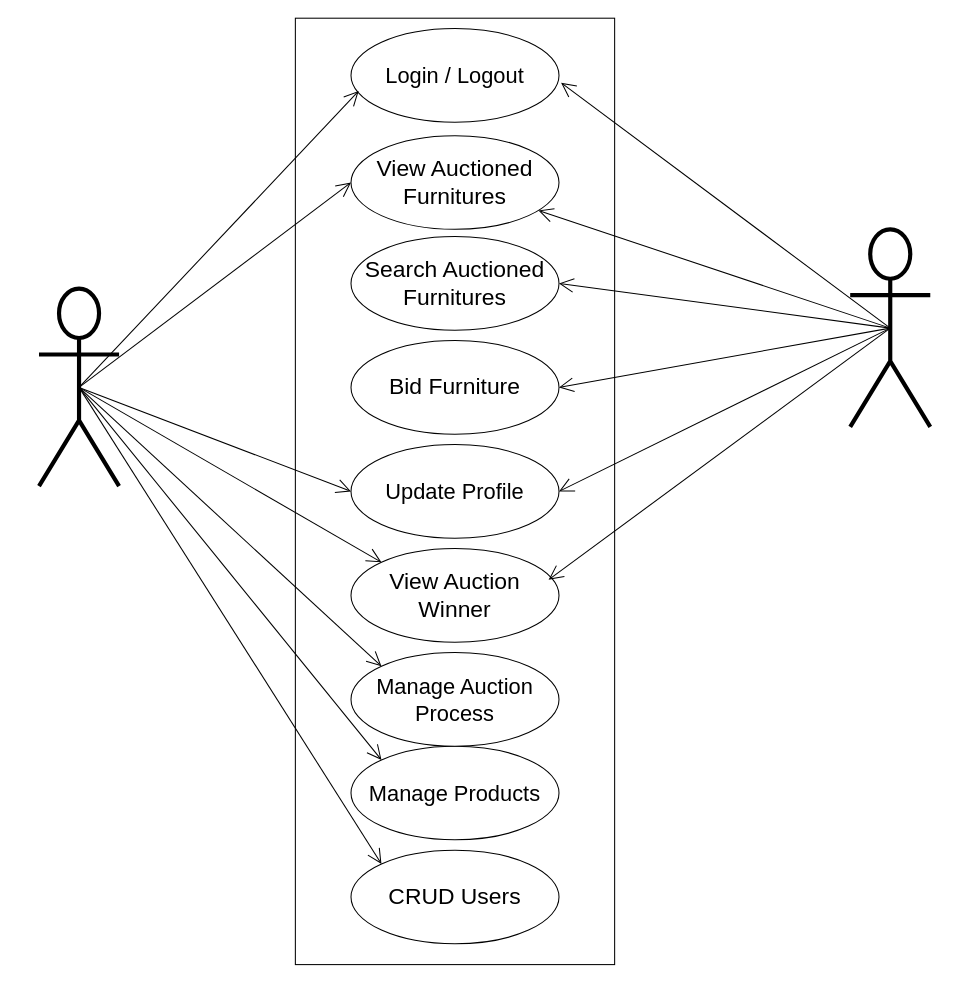
Image size: 954x983. Some labels were removed from this diagram. The centre of each missing label's shape, as x and y in pixels:
"Admin (Auctioneer)" belongs at point (78, 387).
"Users (Bidders)" belongs at point (890, 327).
